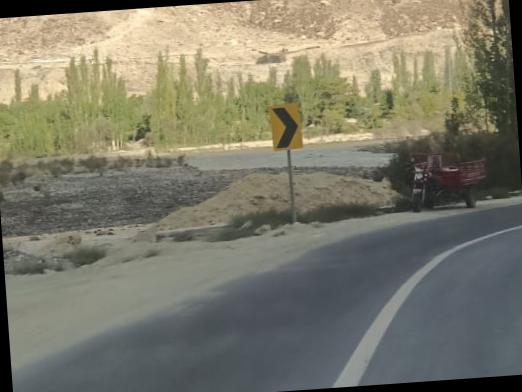left_turn: (365, 145, 522, 296), (264, 101, 302, 152)
